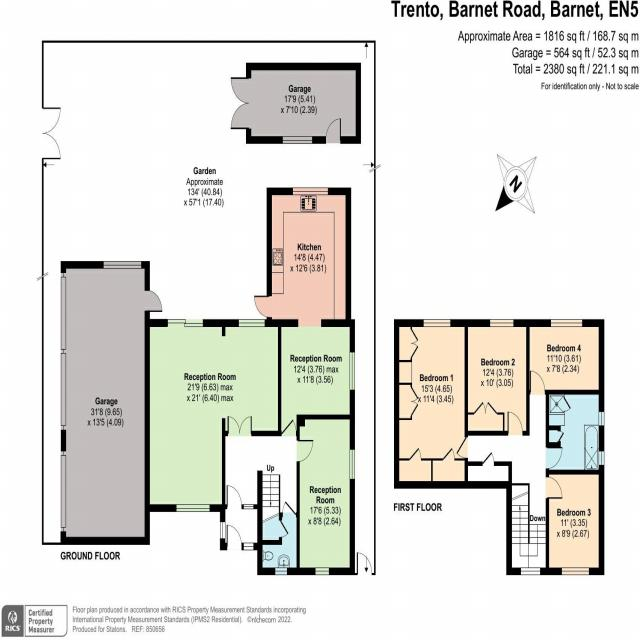DOOR: (226, 414, 252, 436), (296, 438, 314, 463), (325, 116, 341, 144), (529, 369, 546, 395), (254, 294, 272, 318), (225, 485, 243, 509), (144, 288, 162, 312), (546, 475, 563, 500), (226, 524, 242, 550), (507, 411, 523, 436), (281, 417, 298, 436), (455, 435, 468, 459)
ROOM: (145, 318, 282, 512), (254, 187, 356, 437), (394, 319, 468, 459), (297, 414, 356, 575), (465, 319, 530, 435), (546, 470, 604, 576), (526, 318, 604, 394)
SLIDING DOOR: (166, 318, 206, 329)
WINDOW: (292, 186, 329, 197), (102, 260, 142, 270), (549, 318, 583, 329), (175, 503, 211, 513), (560, 567, 591, 578), (281, 135, 313, 145), (349, 349, 356, 392), (422, 318, 452, 328), (237, 318, 266, 328), (488, 319, 514, 328), (349, 448, 356, 480), (519, 567, 541, 577), (314, 567, 329, 576), (598, 449, 605, 467), (220, 519, 226, 539), (274, 568, 289, 576), (242, 542, 254, 551), (599, 409, 605, 427)
